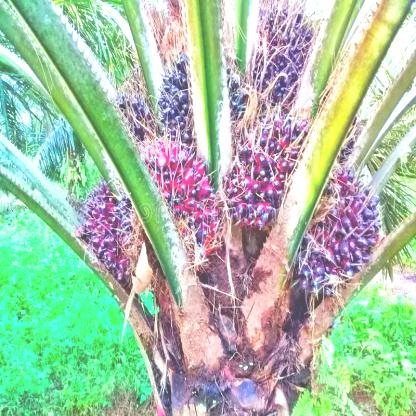1: (292, 166, 383, 303), (220, 114, 310, 235), (143, 141, 223, 263), (77, 181, 140, 280)
palm-oil: (247, 0, 322, 103), (159, 54, 241, 130), (112, 86, 153, 133)
